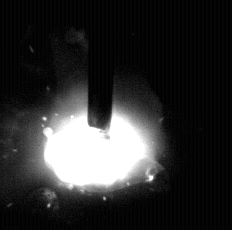arame: (88, 0, 113, 130)
poca: (43, 0, 164, 230)
